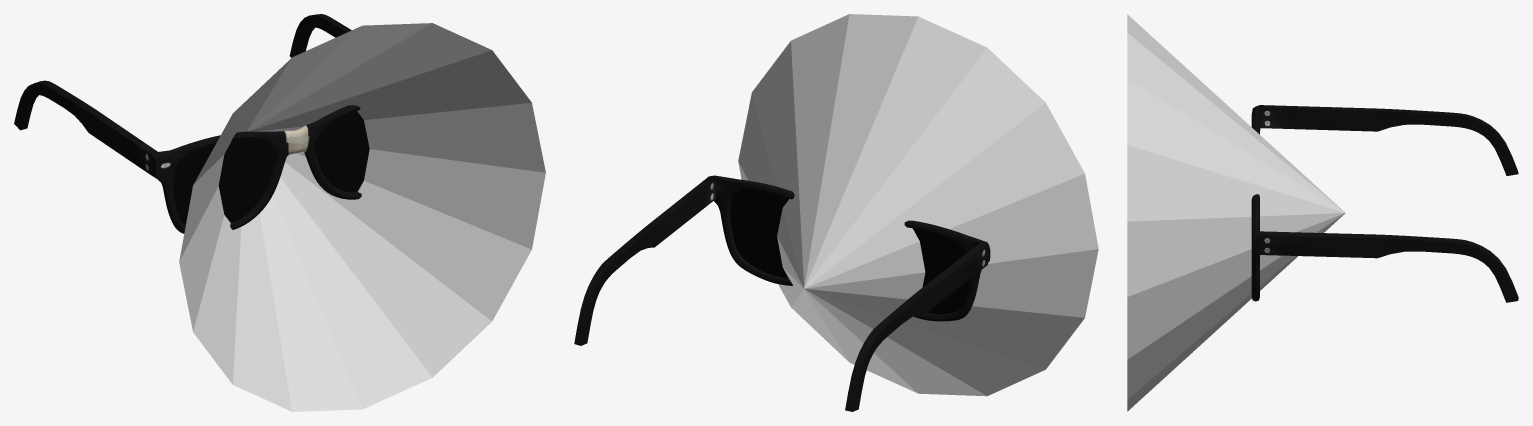
The model's file is flare 1.fbx.
3 renders of one model, left to right at view 1: azimuth 30°, elevation 25°; view 2: azimuth 150°, elevation 25°; view 3: azimuth 270°, elevation 25°, orthographic. The views are drawn at different scales.
Visible parts, largest first — view 1: Cone, Glasses, Glasses.002, Glasses.001; view 2: Cone, Glasses, Glasses.002; view 3: Cone, Glasses.
Boxes of the visible parts, left/top/right/bottom form: Cone: left=179, top=23, right=545, bottom=411; Glasses: left=14, top=14, right=361, bottom=233; Glasses.002: left=173, top=111, right=369, bottom=224; Glasses.001: left=284, top=125, right=309, bottom=155; Cone: left=738, top=14, right=1098, bottom=396; Glasses: left=574, top=175, right=990, bottom=411; Glasses.002: left=730, top=189, right=969, bottom=314; Cone: left=1127, top=14, right=1345, bottom=411; Glasses: left=1251, top=105, right=1518, bottom=302.
Size of the model in its own units: 200 by 200 by 197.
